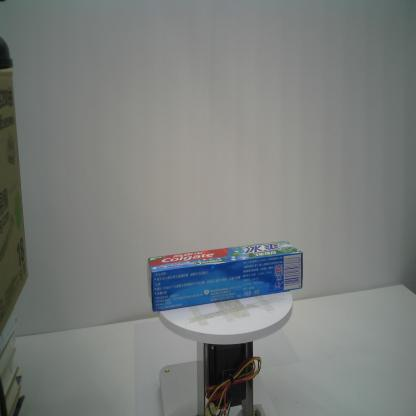Personal Hygiene: (147, 240, 303, 310)
